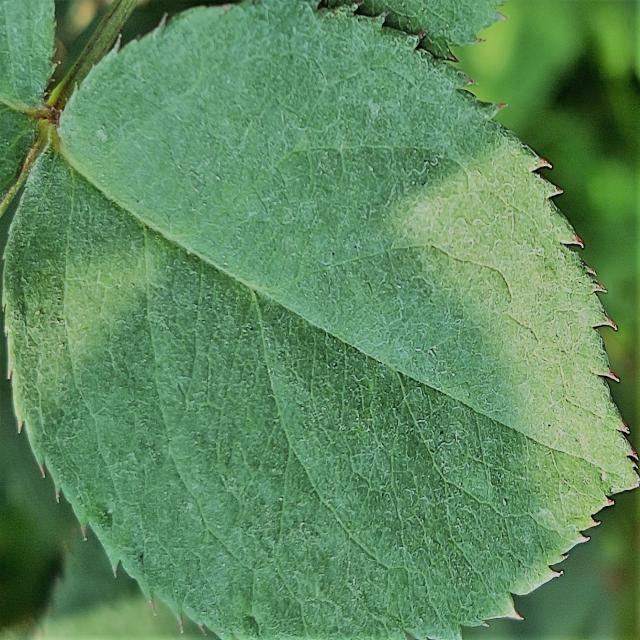Rose: (1, 0, 638, 638)
